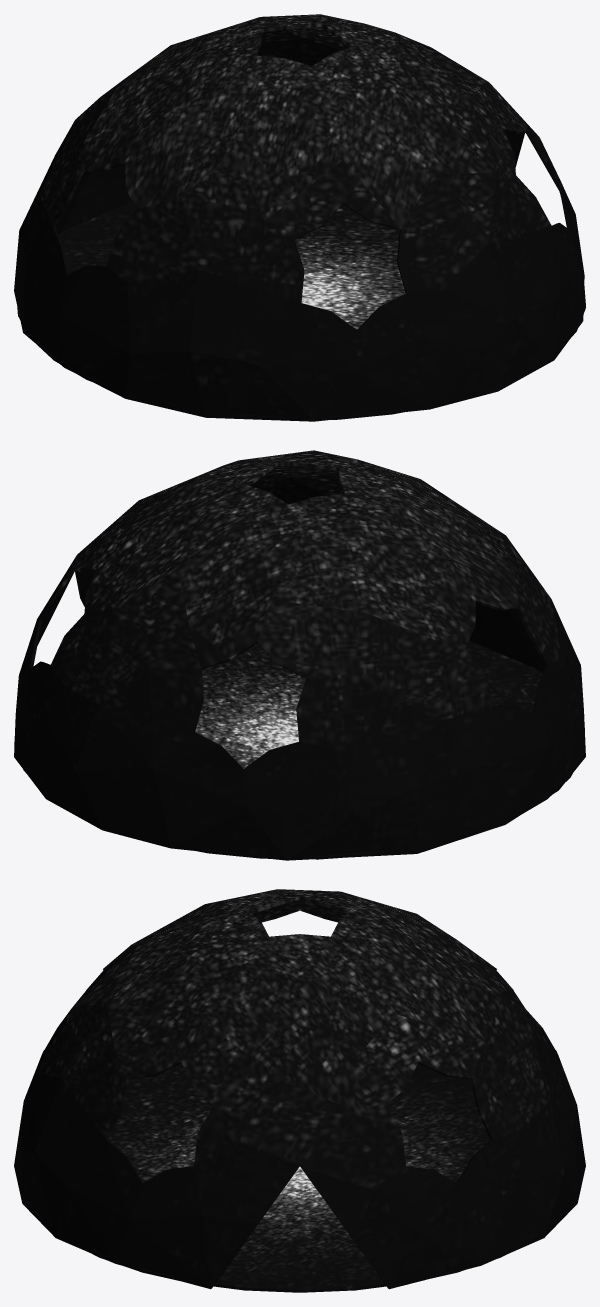
The model's file is black star2.dae.
The picture shows the model from 3 angles, top to bottom: view 1: azimuth 30°, elevation 25°; view 2: azimuth 150°, elevation 25°; view 3: azimuth 270°, elevation 25°; orthographic projection.
Visible parts, largest first — view 1: Icosphere; view 2: Icosphere; view 3: Icosphere.
Boxes of the visible parts, x1,y1,x2,y2 form: Icosphere: (14, 14, 585, 421); Icosphere: (14, 450, 585, 860); Icosphere: (14, 889, 585, 1292).
Bounding box in the file's own units: 1.87 × 1.88 × 0.9432.
1 material, 1 textured.
